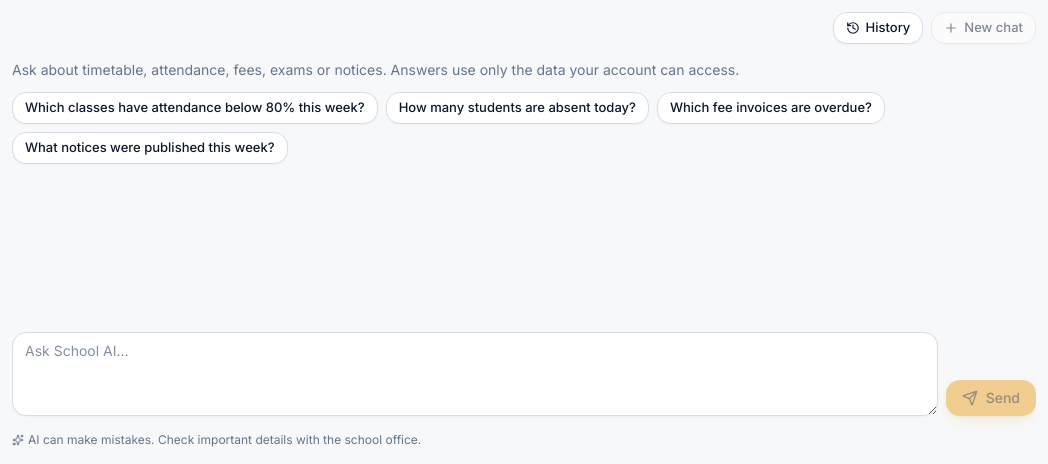
Test: Ask School AI answering from the guide › sends everything the guide does not cover to the AI service as before
Type "what is on the timetable on monday" into the text box named "Message". click: (475, 374)
box: [12, 332, 938, 416]
Then press Enter
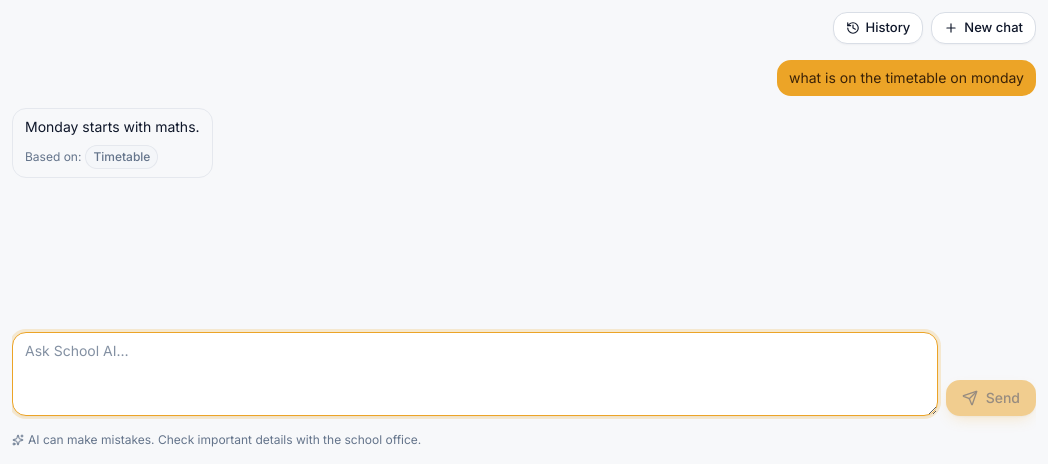
Result: the text "Monday starts with maths." is shown at [25, 117, 200, 137]
